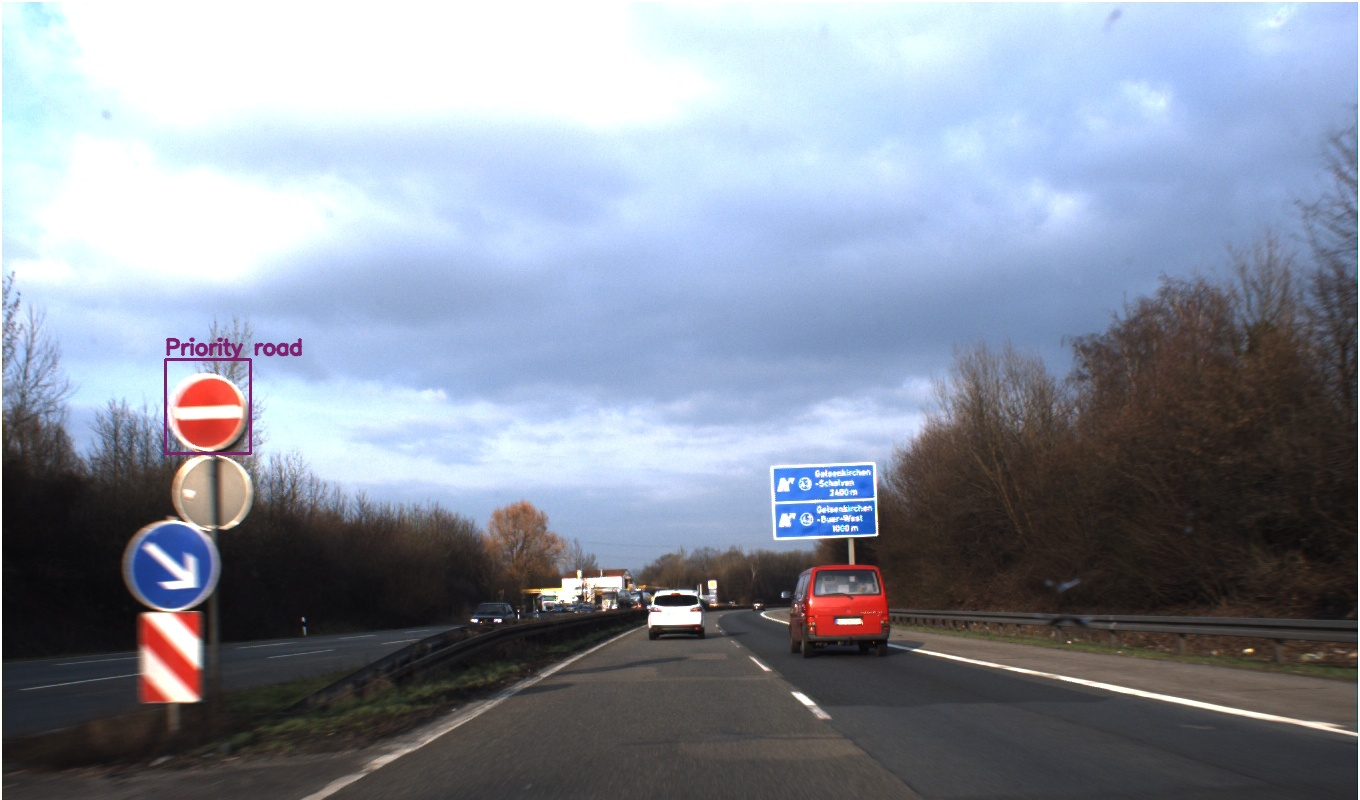Speed limit (30km/h): (979, 364, 1034, 418)
